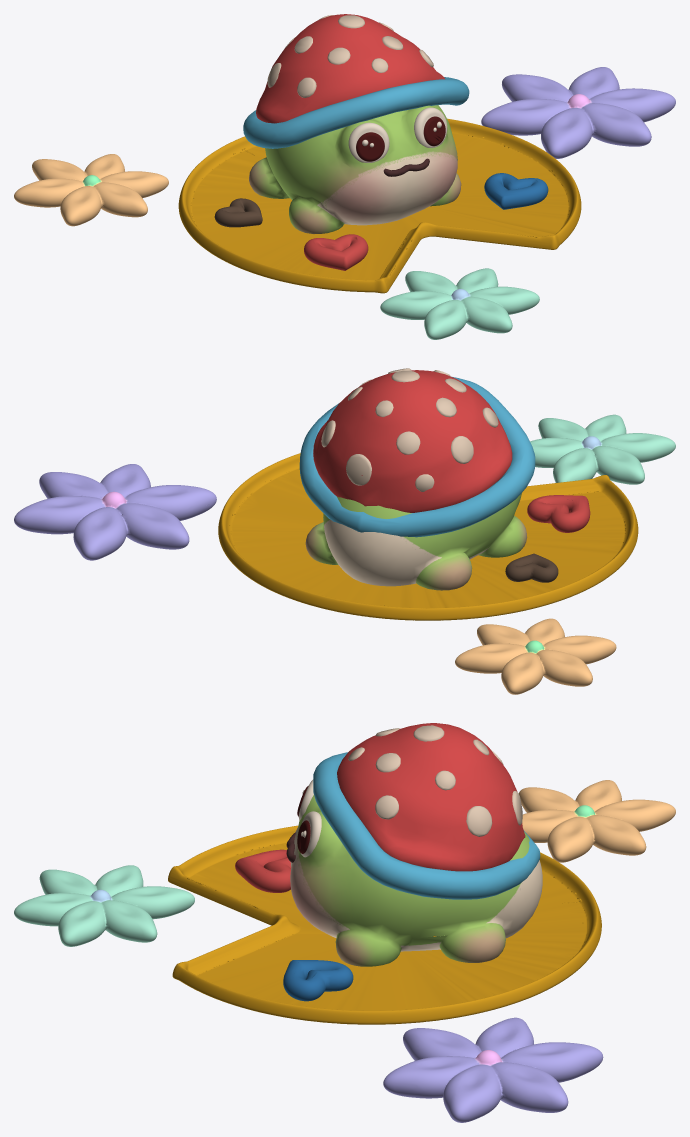
Rendered from MushroomFrog.fbx.
3 renders of one model, top to bottom at view 1: azimuth 30°, elevation 25°; view 2: azimuth 150°, elevation 25°; view 3: azimuth 270°, elevation 25°, orthographic. The views are drawn at different scales.
Visible parts, largest first — view 1: model_6, model_7, model_0, model_13, model_2, model_1, model_12, model_8, model_14, model_3, model_4, model_5; view 2: model_6, model_13, model_0, model_7, model_12, model_1, model_2, model_14, model_3, model_5; view 3: model_6, model_13, model_7, model_0, model_2, model_1, model_12, model_14, model_4, model_3, model_8.
Part boxes in pixels (box(x1,y1,x2,y2)): model_6: box(178, 118, 581, 293); model_7: box(249, 105, 461, 233); model_0: box(481, 67, 675, 158); model_13: box(256, 14, 445, 123); model_2: box(380, 268, 539, 339); model_1: box(14, 154, 168, 226); model_12: box(243, 77, 469, 148); model_8: box(348, 107, 447, 162); model_14: box(267, 15, 433, 97); model_3: box(304, 234, 368, 270); model_4: box(484, 173, 548, 209); model_5: box(214, 198, 262, 227); model_6: box(218, 453, 638, 620); model_13: box(313, 370, 512, 512); model_0: box(14, 464, 216, 560); model_7: box(305, 492, 527, 590); model_12: box(299, 376, 535, 537); model_1: box(455, 618, 616, 694); model_2: box(530, 414, 675, 484); model_14: box(321, 368, 498, 491); model_3: box(527, 495, 590, 532); model_5: box(505, 553, 558, 582); model_6: box(168, 825, 601, 1024); model_13: box(337, 723, 525, 871); model_7: box(290, 795, 542, 966); model_0: box(383, 1017, 603, 1122); model_2: box(14, 865, 194, 946); model_1: box(518, 780, 675, 862); model_12: box(313, 752, 540, 899); model_14: box(348, 725, 522, 836); model_4: box(283, 960, 353, 1001); model_3: box(235, 849, 291, 892); model_8: box(297, 779, 321, 857).
Size of the model in its own units: 0.4694 by 0.1419 by 0.3957.
Materials: 13 (13 with a texture image).
